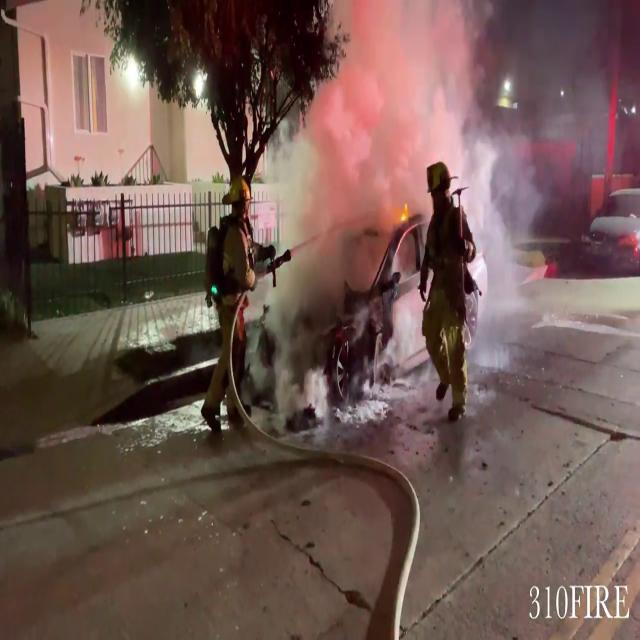Smoke: (264, 0, 640, 400), (264, 0, 497, 404)
